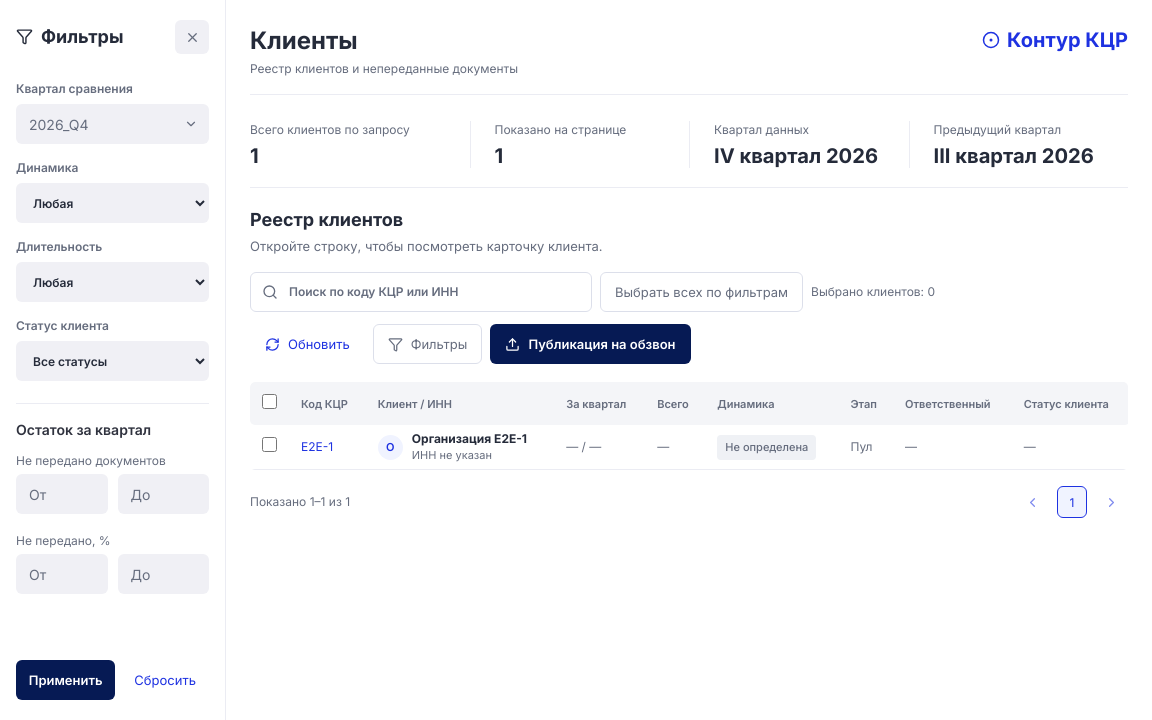
Test: requires a selection and a quarter before publishing the registry
Expected: the checkbox named "Выбрать E2E-1" is shown, [262,437,277,452]
Click the button "Публикация на обзвон" at {"x": 590, "y": 344}, box [490,324,691,364]
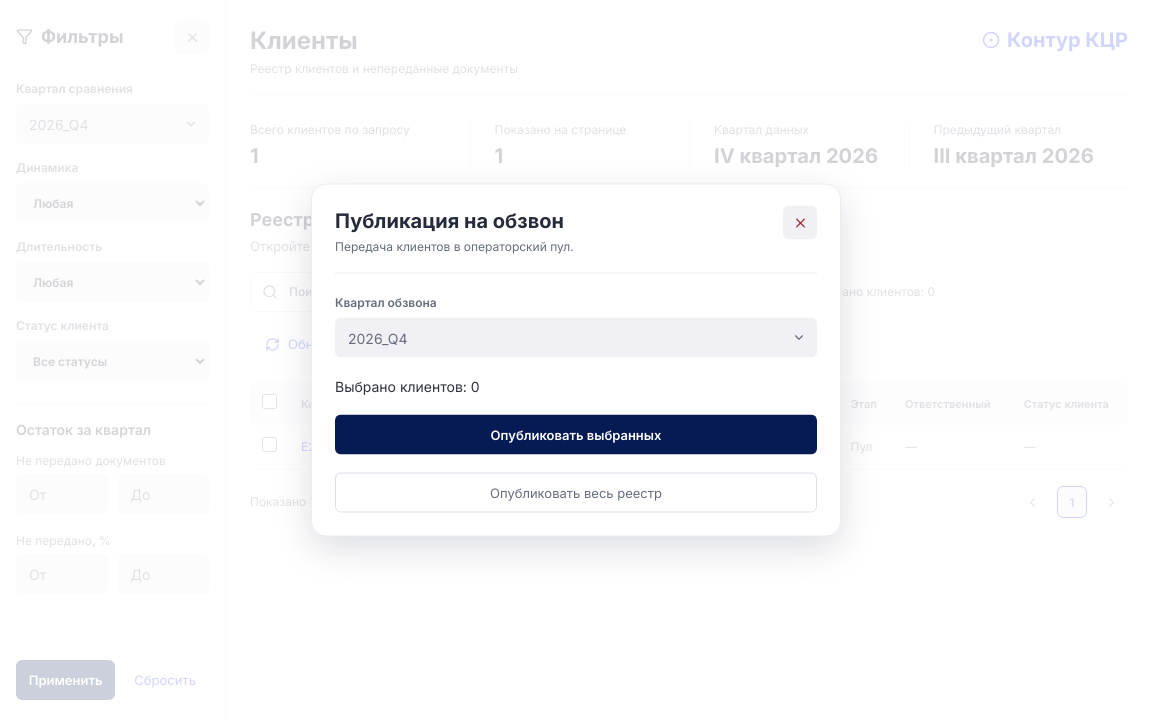
Click the button "Опубликовать выбранных" at {"x": 576, "y": 434}, box [335,414,817,454]
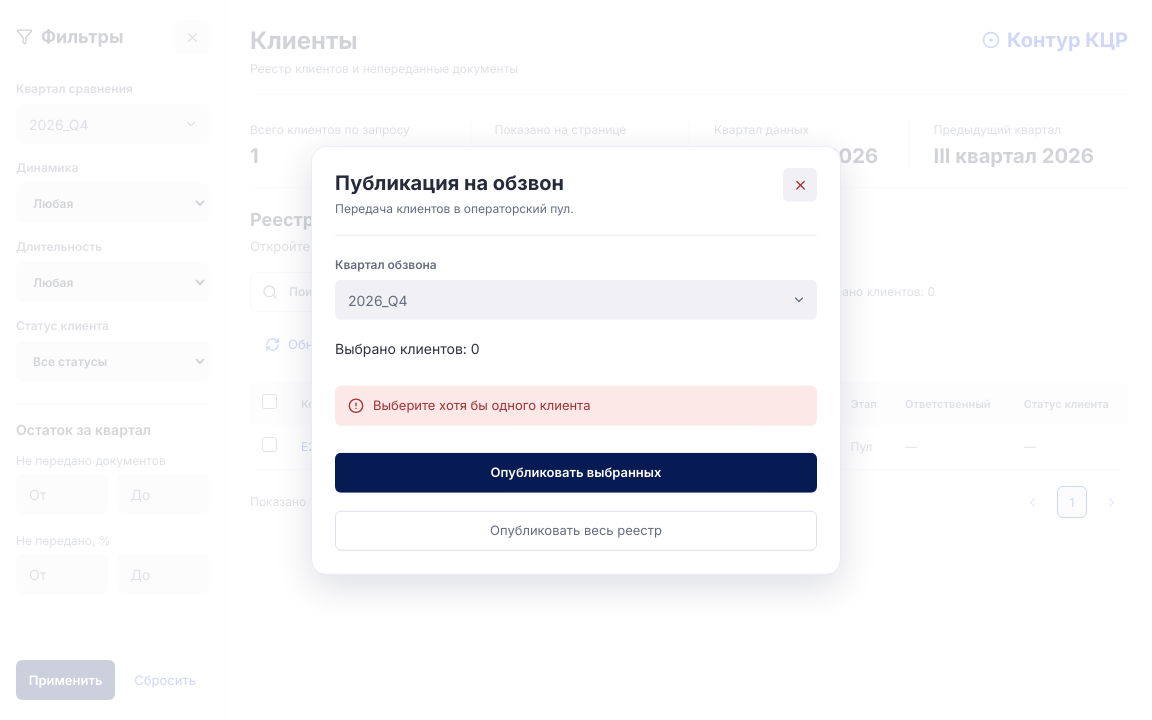
Expected: the message reads "Выберите хотя бы одного клиента", [373,397,590,413]
Click the button named "Закрыть" at {"x": 800, "y": 185}, box [783,168,817,202]
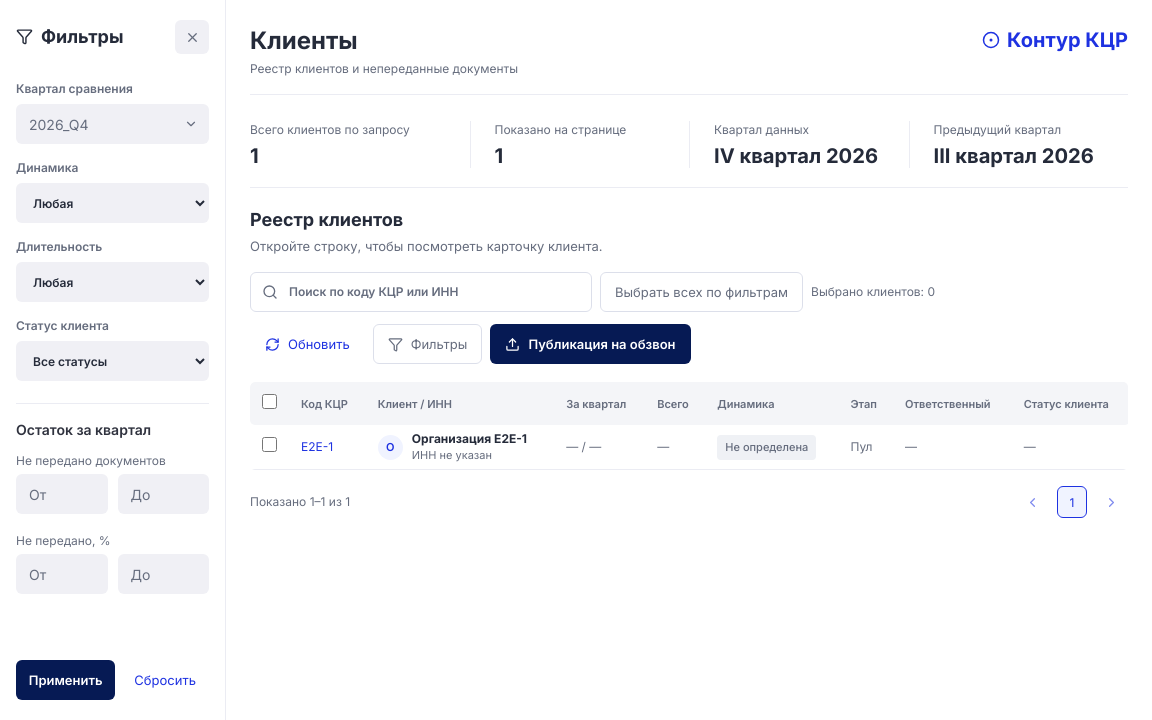
Click the checkbox named "Выбрать E2E-1" at {"x": 270, "y": 445}, box [262,437,277,452]
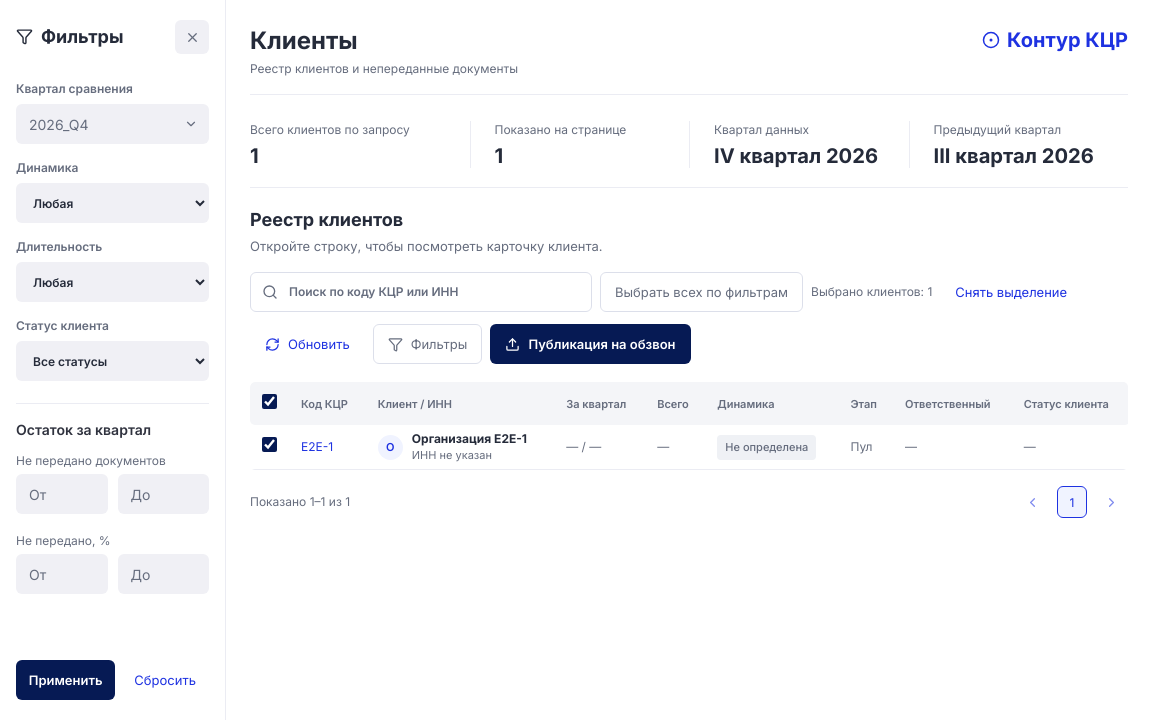
Click the button "Публикация на обзвон" at {"x": 590, "y": 344}, box [490,324,691,364]
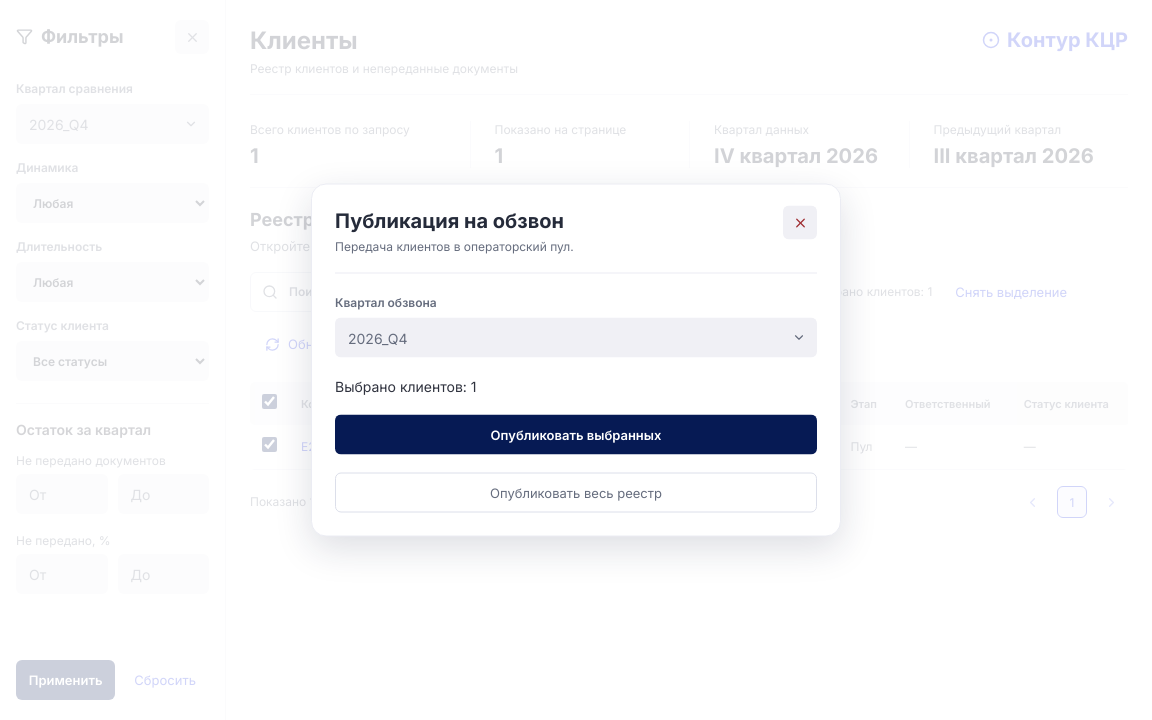
Type "2026-Q4" into the dropdown labelled "Квартал обзвона" at {"x": 558, "y": 338}, box [335,318,781,358]
Click the button "Опубликовать выбранных" at {"x": 576, "y": 434}, box [335,414,817,454]
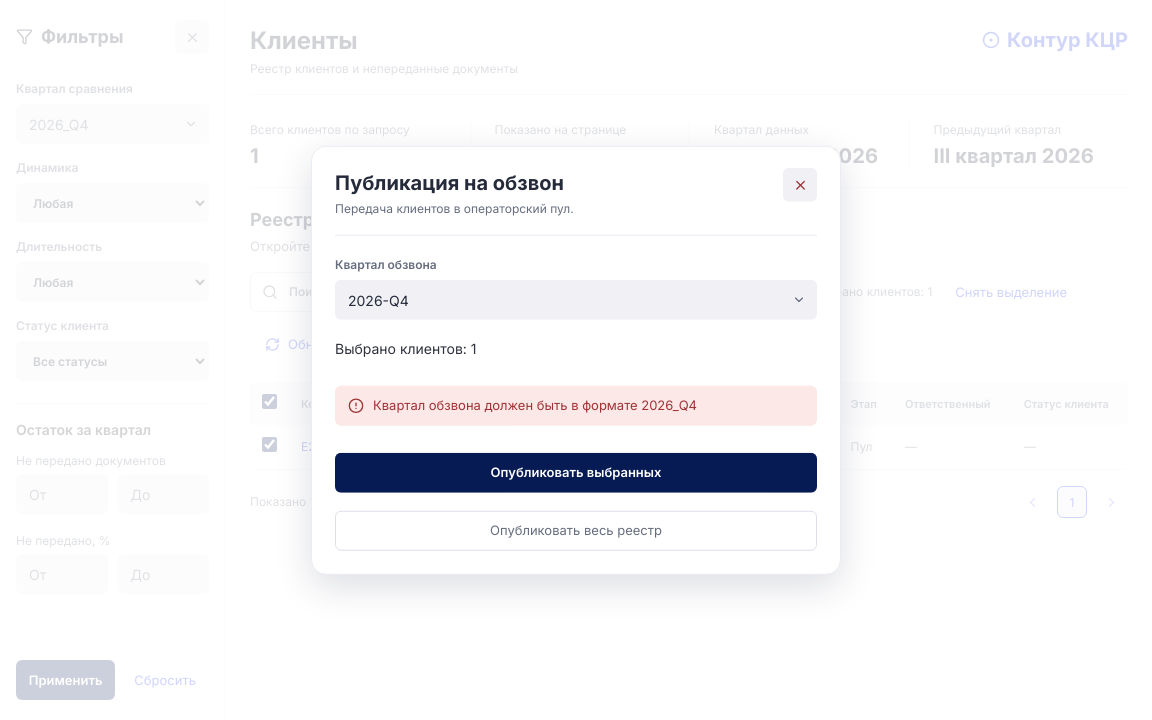
Expected: the message reads "Квартал обзвона должен быть в формате 2026_Q4", [373,397,697,413]
